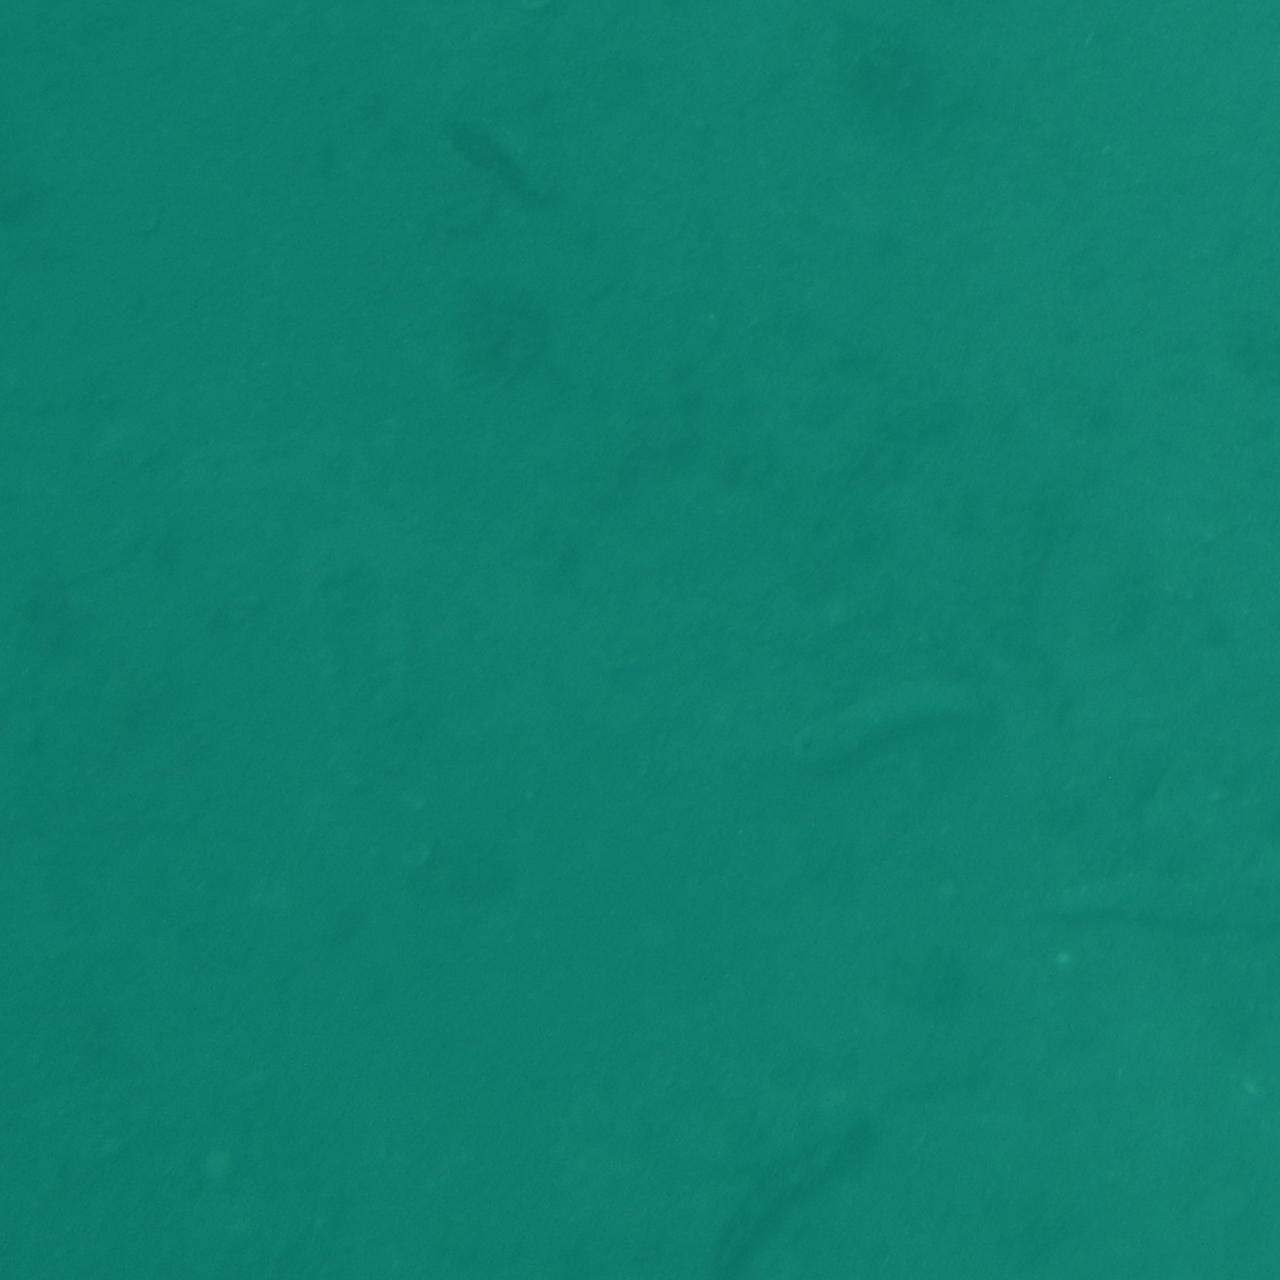Holothuria tubulosa: (740, 653, 1028, 791), (704, 1097, 921, 1280), (1049, 851, 1280, 989), (427, 91, 567, 207), (444, 1157, 558, 1280), (0, 0, 165, 66)
